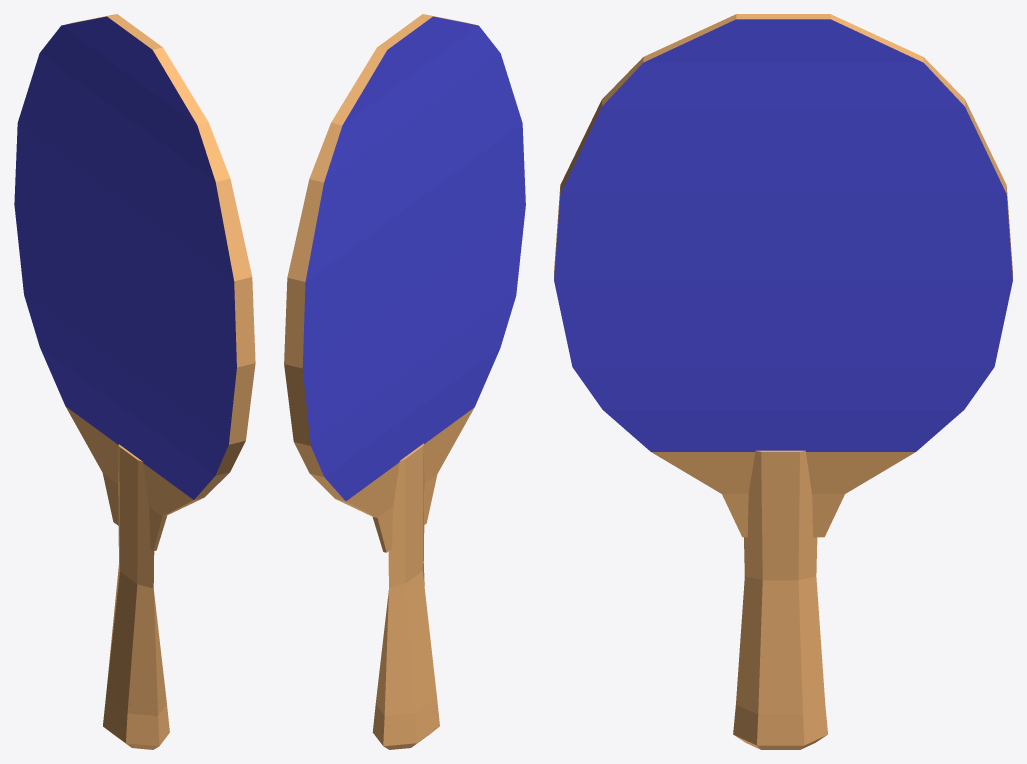
File: pingpongpaddle-blue.fbx
The picture shows the model from 3 angles, left to right: view 1: azimuth 30°, elevation 25°; view 2: azimuth 150°, elevation 25°; view 3: azimuth 270°, elevation 25°; orthographic projection. The views are drawn at different scales.
Parts seen in each view (by area): view 1: Cube.003; view 2: Cube.003; view 3: Cube.003.
Part boxes in pixels (x1,y1,x2,y2): Cube.003: (14,14,255,749); Cube.003: (284,14,525,749); Cube.003: (554,14,1012,749).
Size of the model in its own units: 40.78 by 623 by 357.
